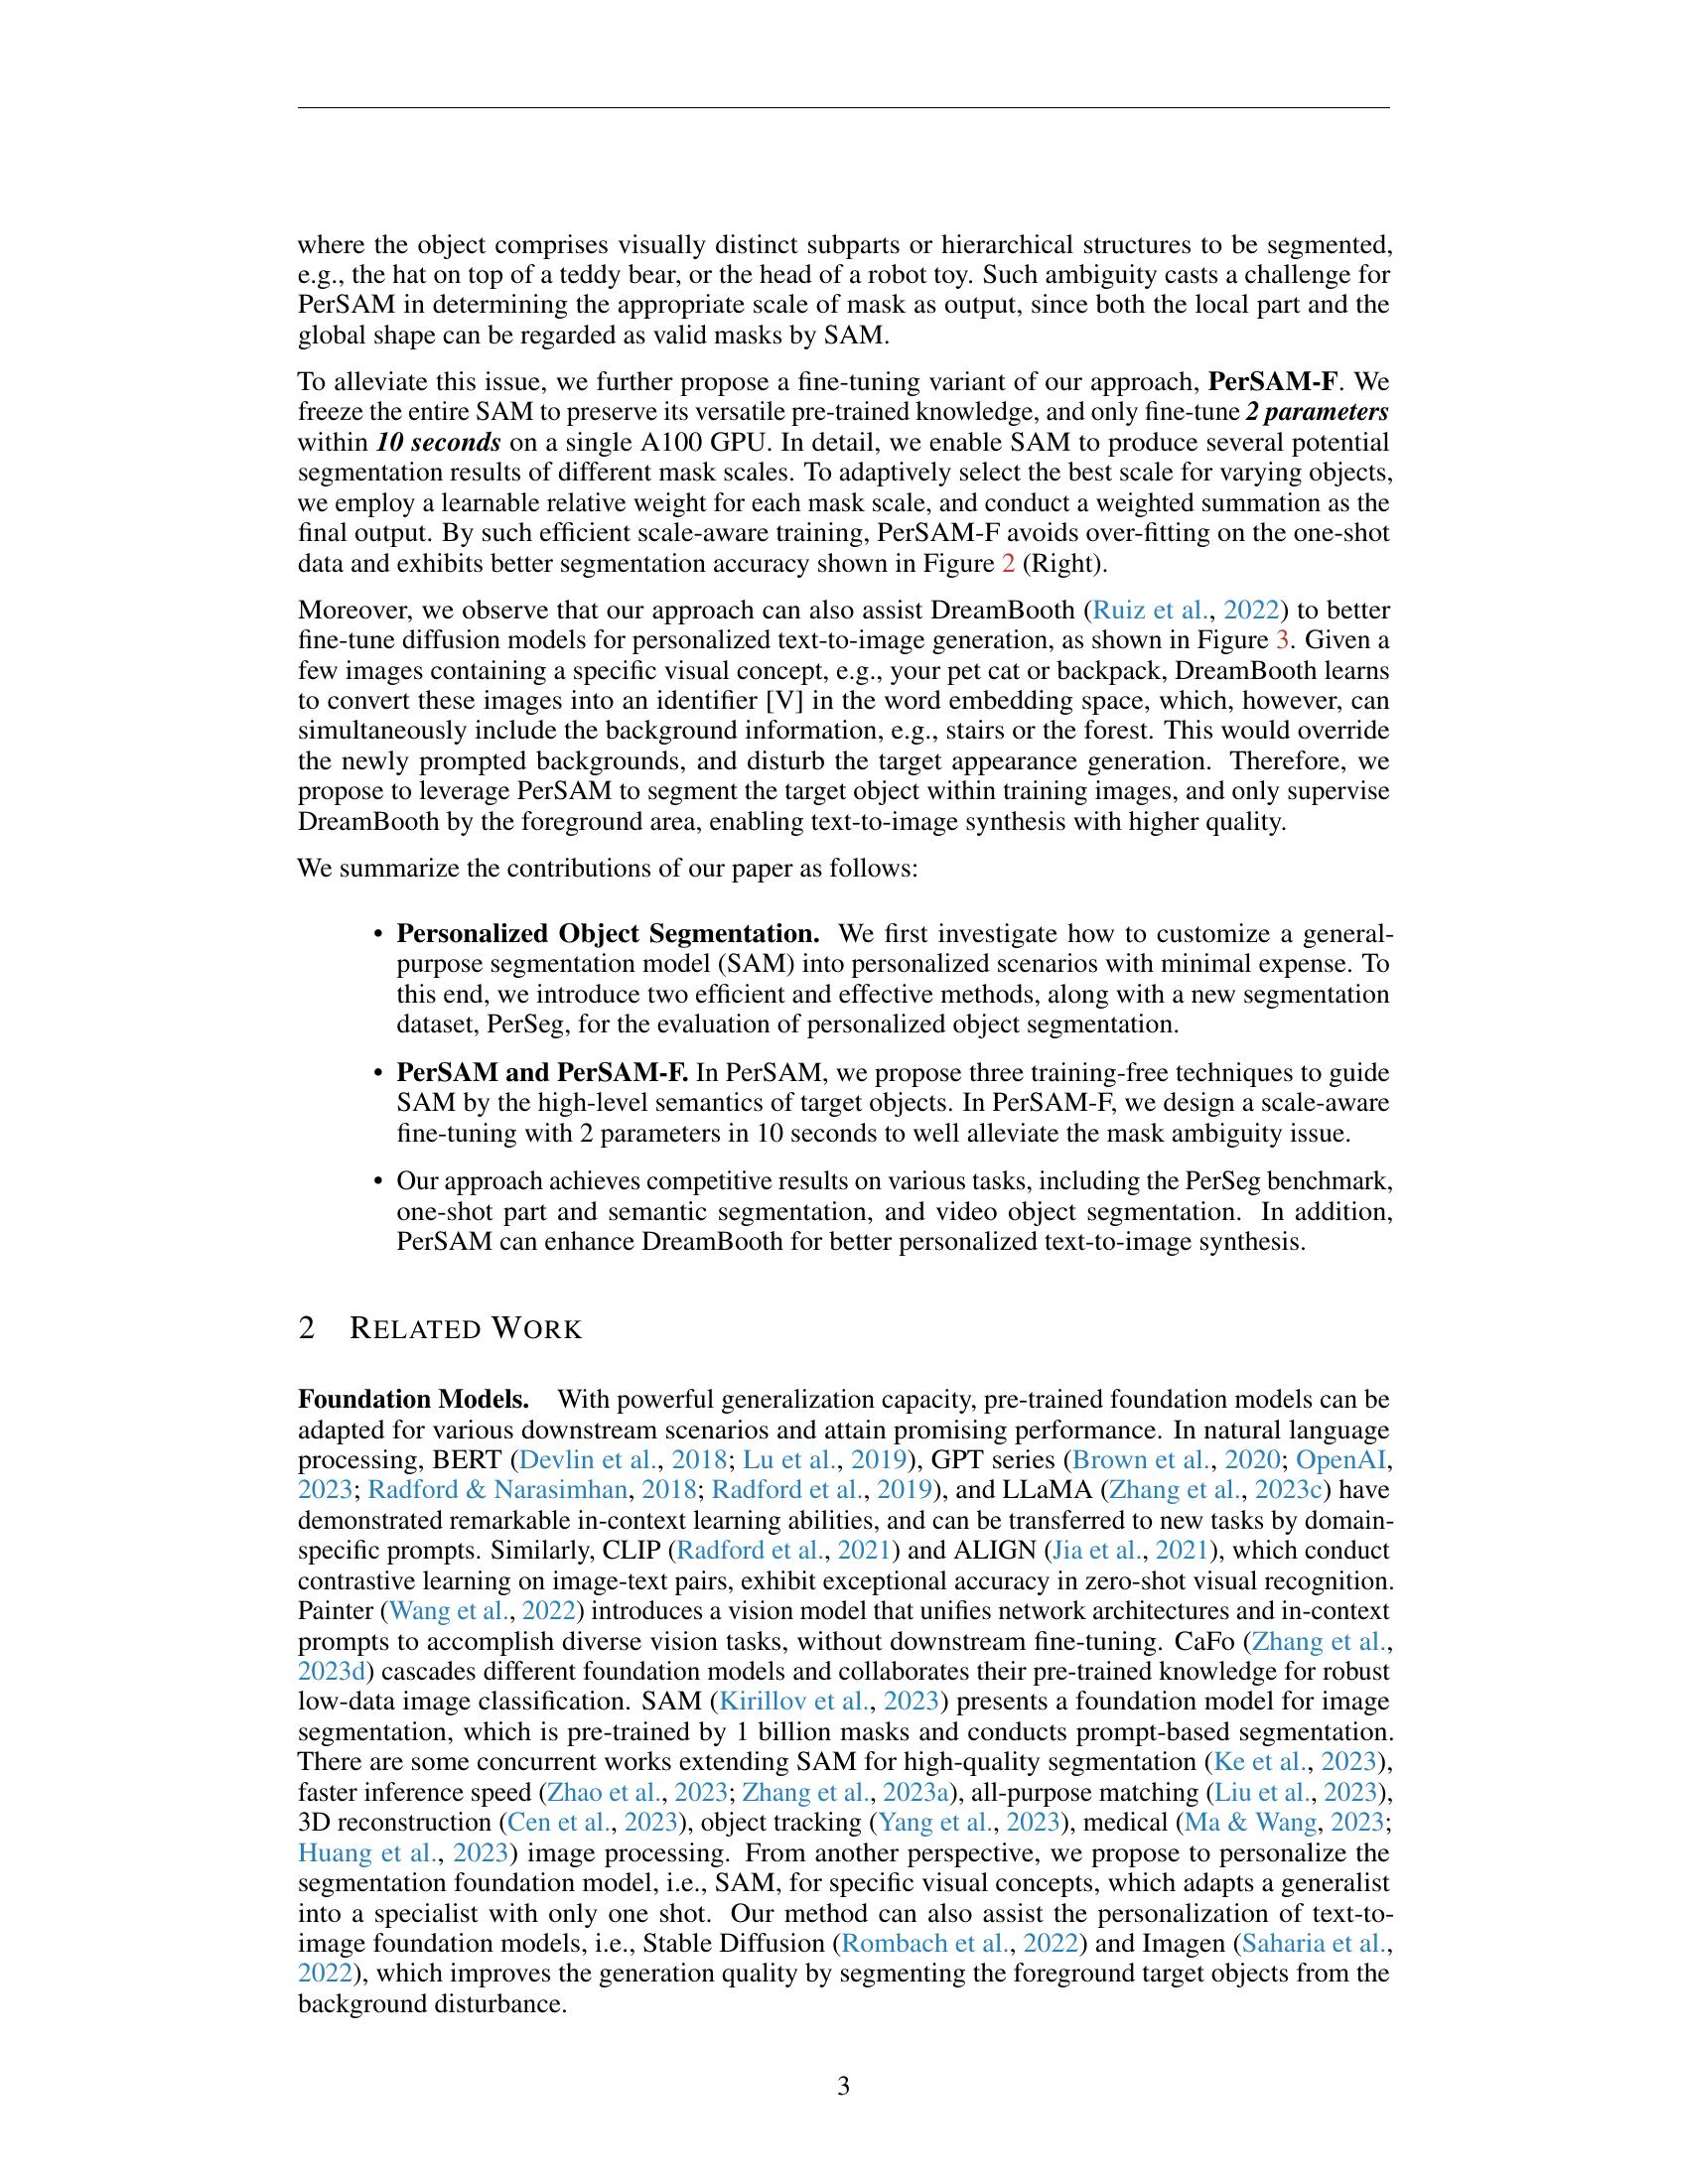text: (287, 1305, 1399, 2026), (287, 851, 1399, 1264), (287, 223, 1399, 581), (287, 590, 1399, 844)
